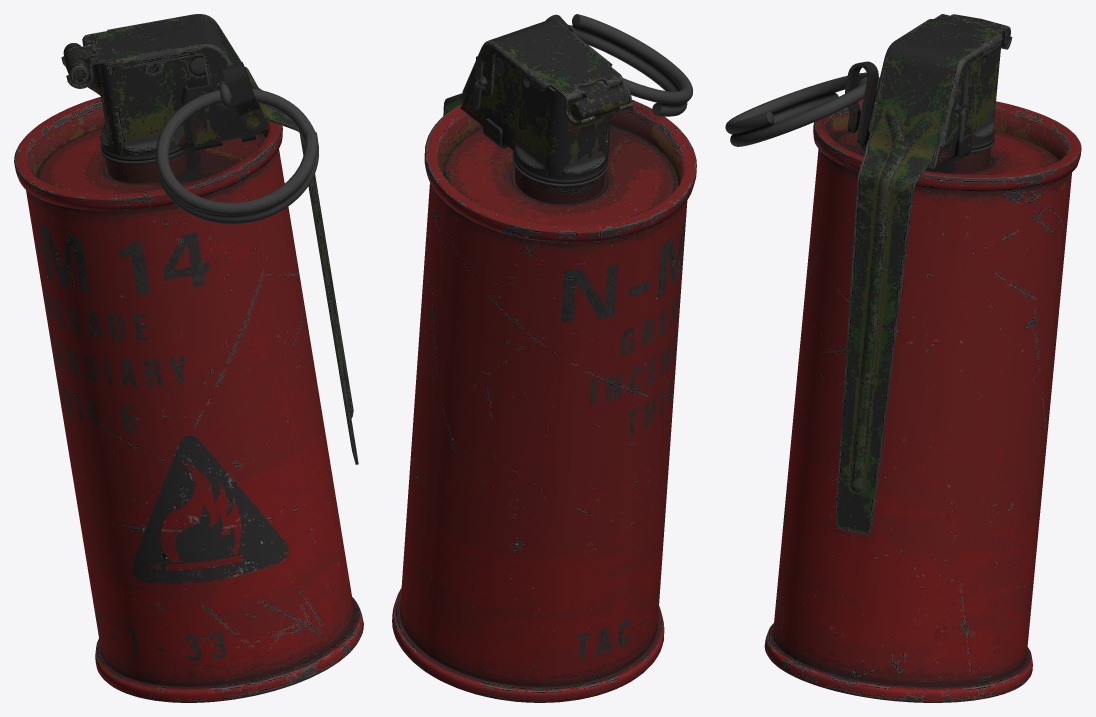
File: incendiary_r.glb
3 renders of one model, left to right at view 1: azimuth 30°, elevation 25°; view 2: azimuth 150°, elevation 25°; view 3: azimuth 270°, elevation 25°, orthographic.
Parts seen in each view (by area): view 1: v_incendiary_R; view 2: v_incendiary_R; view 3: v_incendiary_R.
Part boxes in pixels (x1,y1,x2,y2): v_incendiary_R: (14, 14, 363, 702); v_incendiary_R: (392, 14, 696, 702); v_incendiary_R: (725, 14, 1081, 702).
Bounding box in the file's own units: 0.0592 × 0.1222 × 0.0633.
1 material, 1 textured.
